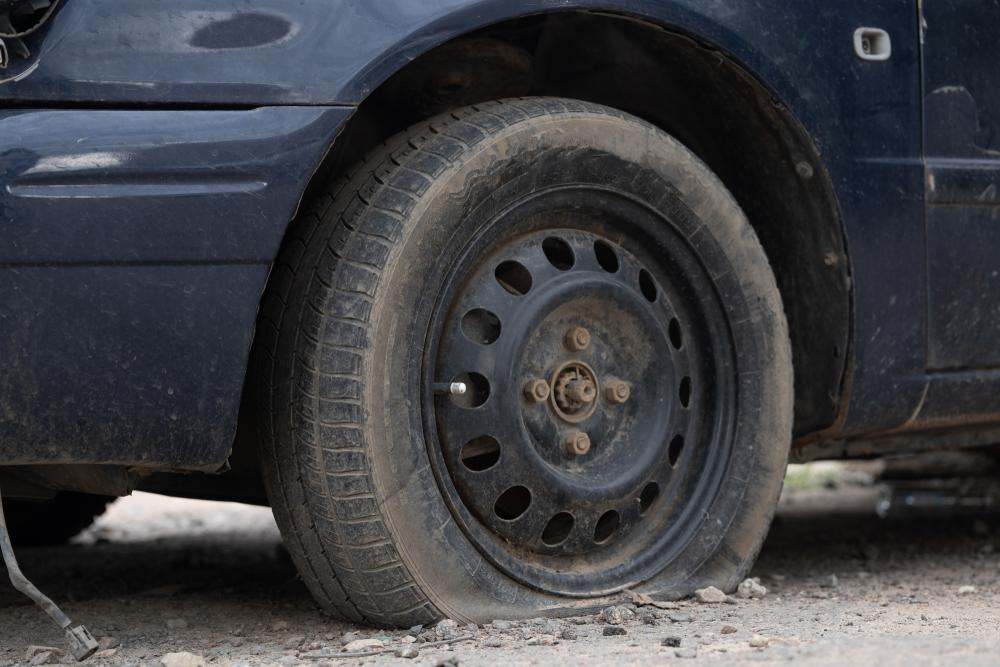tire flat: (265, 93, 793, 630)
